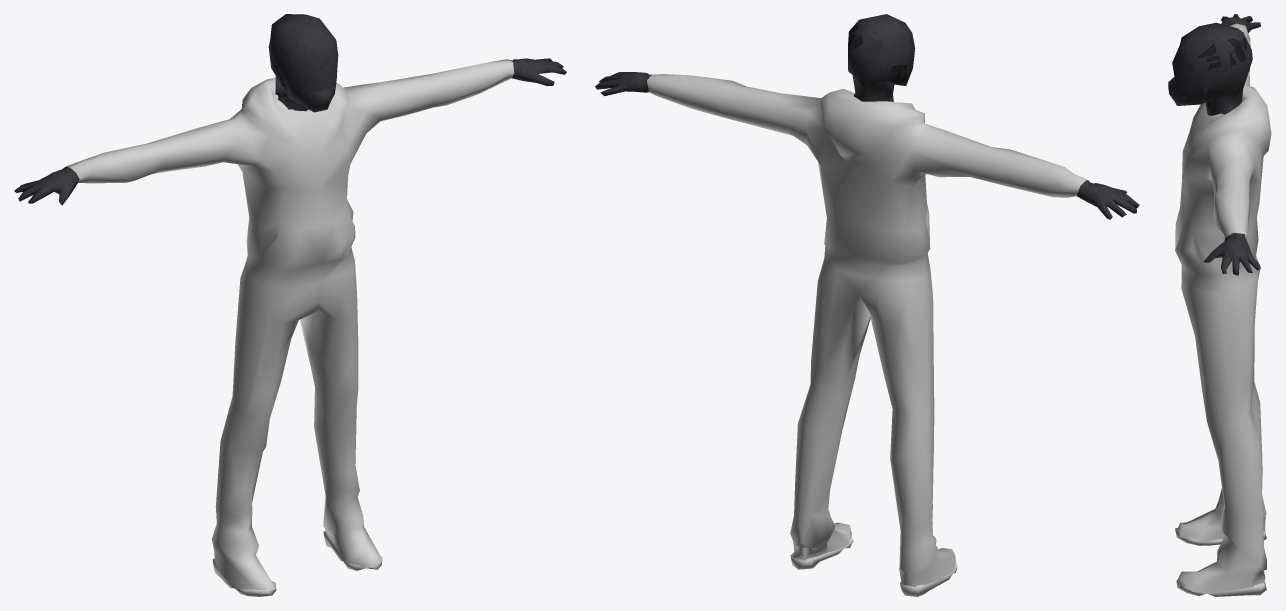
File: NervManLowPoly.fbx
3 views of the same model, side by side, from view 1: azimuth 30°, elevation 25°; view 2: azimuth 150°, elevation 25°; view 3: azimuth 270°, elevation 25° (orthographic). The views are drawn at different scales.
Visible parts, largest first — view 1: Body_Mesh, Head_Mesh; view 2: Body_Mesh, Head_Mesh; view 3: Body_Mesh, Head_Mesh.
Boxes of the visible parts, left/top/right/bottom form: Body_Mesh: left=14, top=58, right=566, bottom=596; Head_Mesh: left=268, top=14, right=338, bottom=112; Body_Mesh: left=595, top=72, right=1139, bottom=596; Head_Mesh: left=848, top=14, right=915, bottom=101; Body_Mesh: left=1175, top=14, right=1271, bottom=596; Head_Mesh: left=1168, top=22, right=1252, bottom=115.
Bounding box in the file's own units: 189 × 183 × 31.89.
